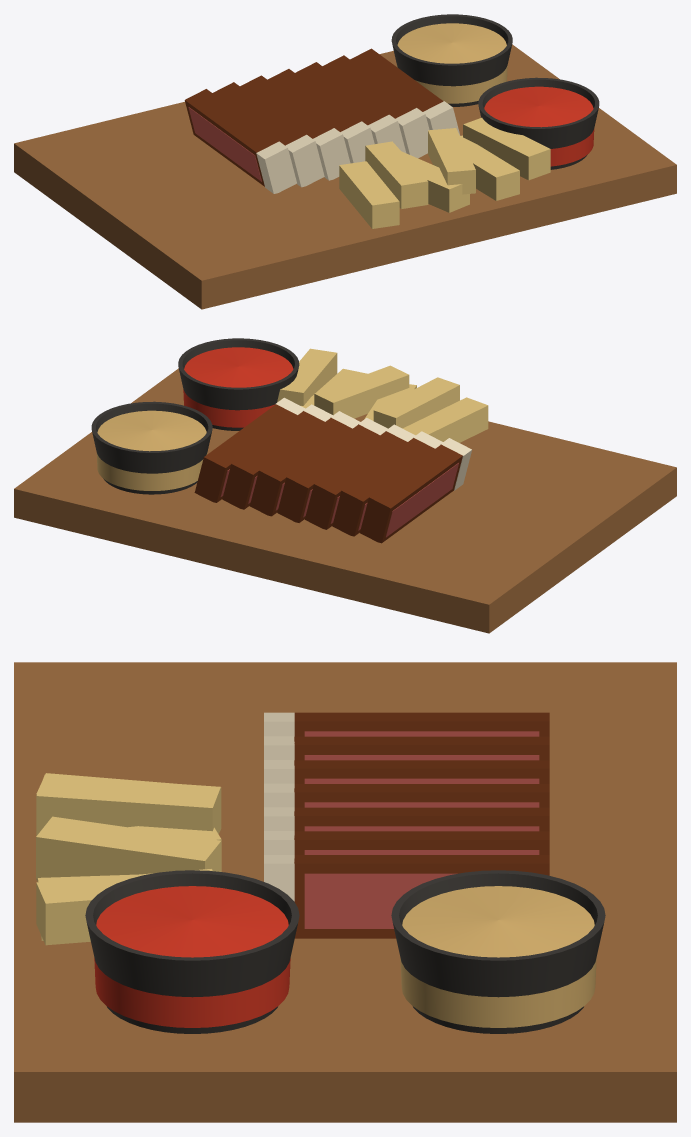
Rendered from tabua_carne.glb.
The picture shows the model from 3 angles, top to bottom: view 1: azimuth 30°, elevation 25°; view 2: azimuth 150°, elevation 25°; view 3: azimuth 270°, elevation 25°; orthographic projection. The views are drawn at different scales.
Parts seen in each view (by area): view 1: tabua_carne; view 2: tabua_carne; view 3: tabua_carne.
Boxes of the visible parts, <box> form: tabua_carne: <box>14,14,676,309</box>; tabua_carne: <box>14,338,676,633</box>; tabua_carne: <box>14,662,676,1122</box>.
Size of the model in its own units: 0.38 by 0.057 by 0.26.
